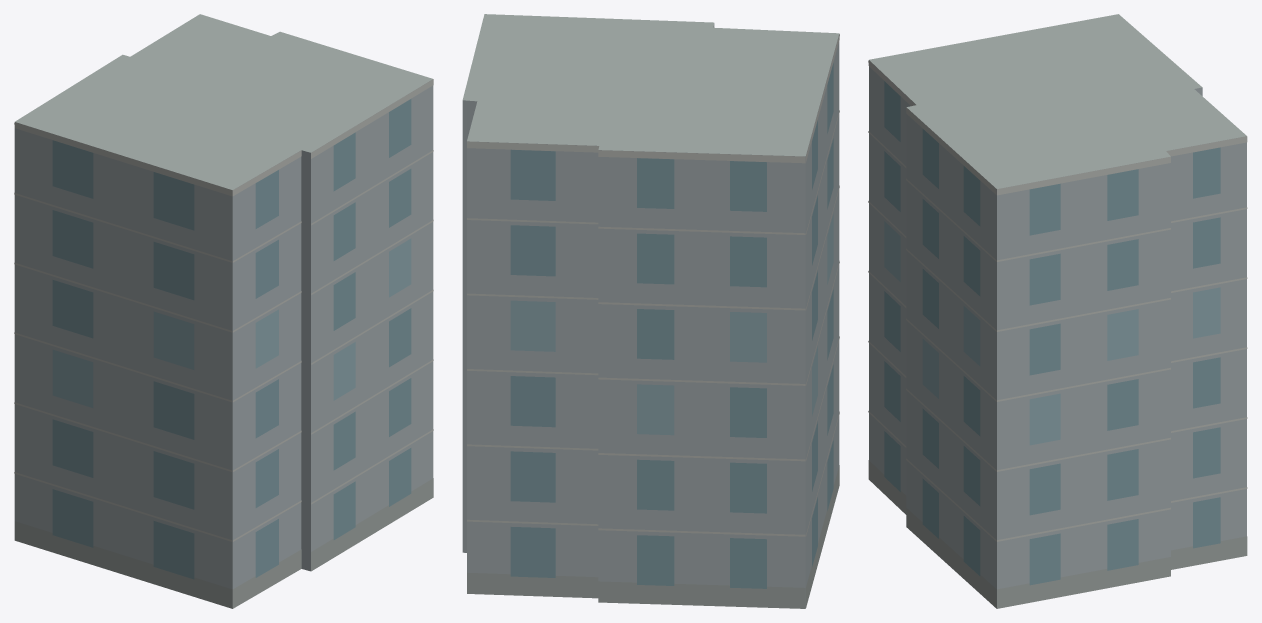
File: survey-upis-33028741.glb
3 renders of one model, left to right at view 1: azimuth 30°, elevation 25°; view 2: azimuth 150°, elevation 25°; view 3: azimuth 270°, elevation 25°, orthographic. The views are drawn at different scales.
Parts seen in each view (by area): view 1: survey-upis-33028741.tmp; view 2: survey-upis-33028741.tmp; view 3: survey-upis-33028741.tmp.
Boxes of the visible parts, x1,y1,x2,y2 form: survey-upis-33028741.tmp: [14, 14, 433, 608]; survey-upis-33028741.tmp: [462, 14, 839, 608]; survey-upis-33028741.tmp: [868, 14, 1247, 608].
Bounding box in the file's own units: 14.52 × 16.2 × 13.26.
